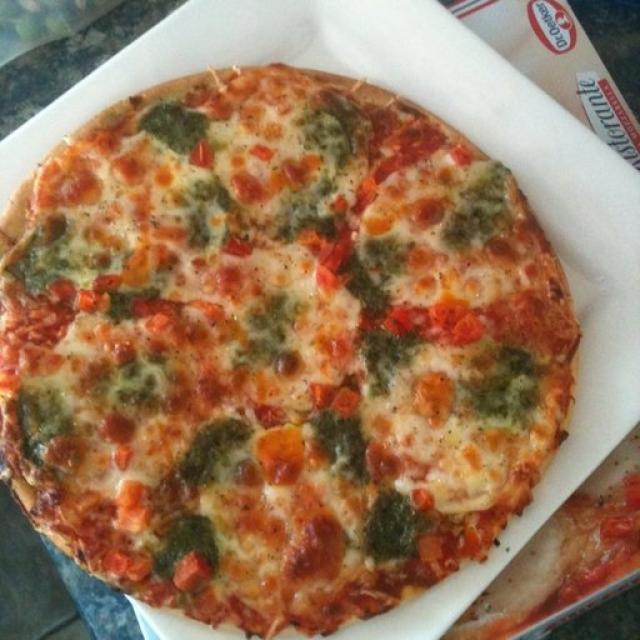Pizza: (0, 64, 581, 640)
